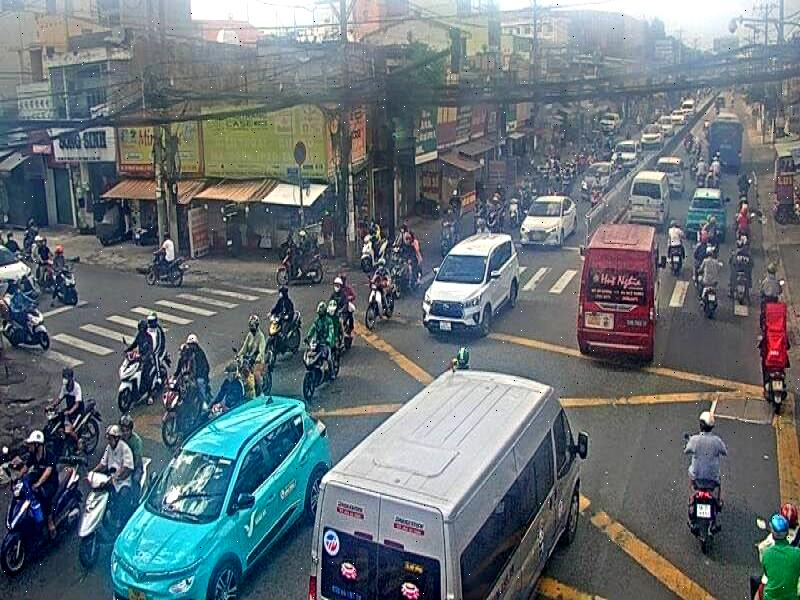car: (307, 354, 614, 600), (83, 386, 329, 600), (566, 209, 664, 380), (411, 224, 533, 346), (527, 181, 579, 264), (633, 168, 675, 242), (684, 184, 728, 244)
motorcycle: (55, 450, 152, 592), (0, 461, 82, 577), (676, 465, 744, 577), (101, 336, 169, 404), (154, 367, 214, 444), (34, 392, 102, 452), (152, 246, 185, 300)
